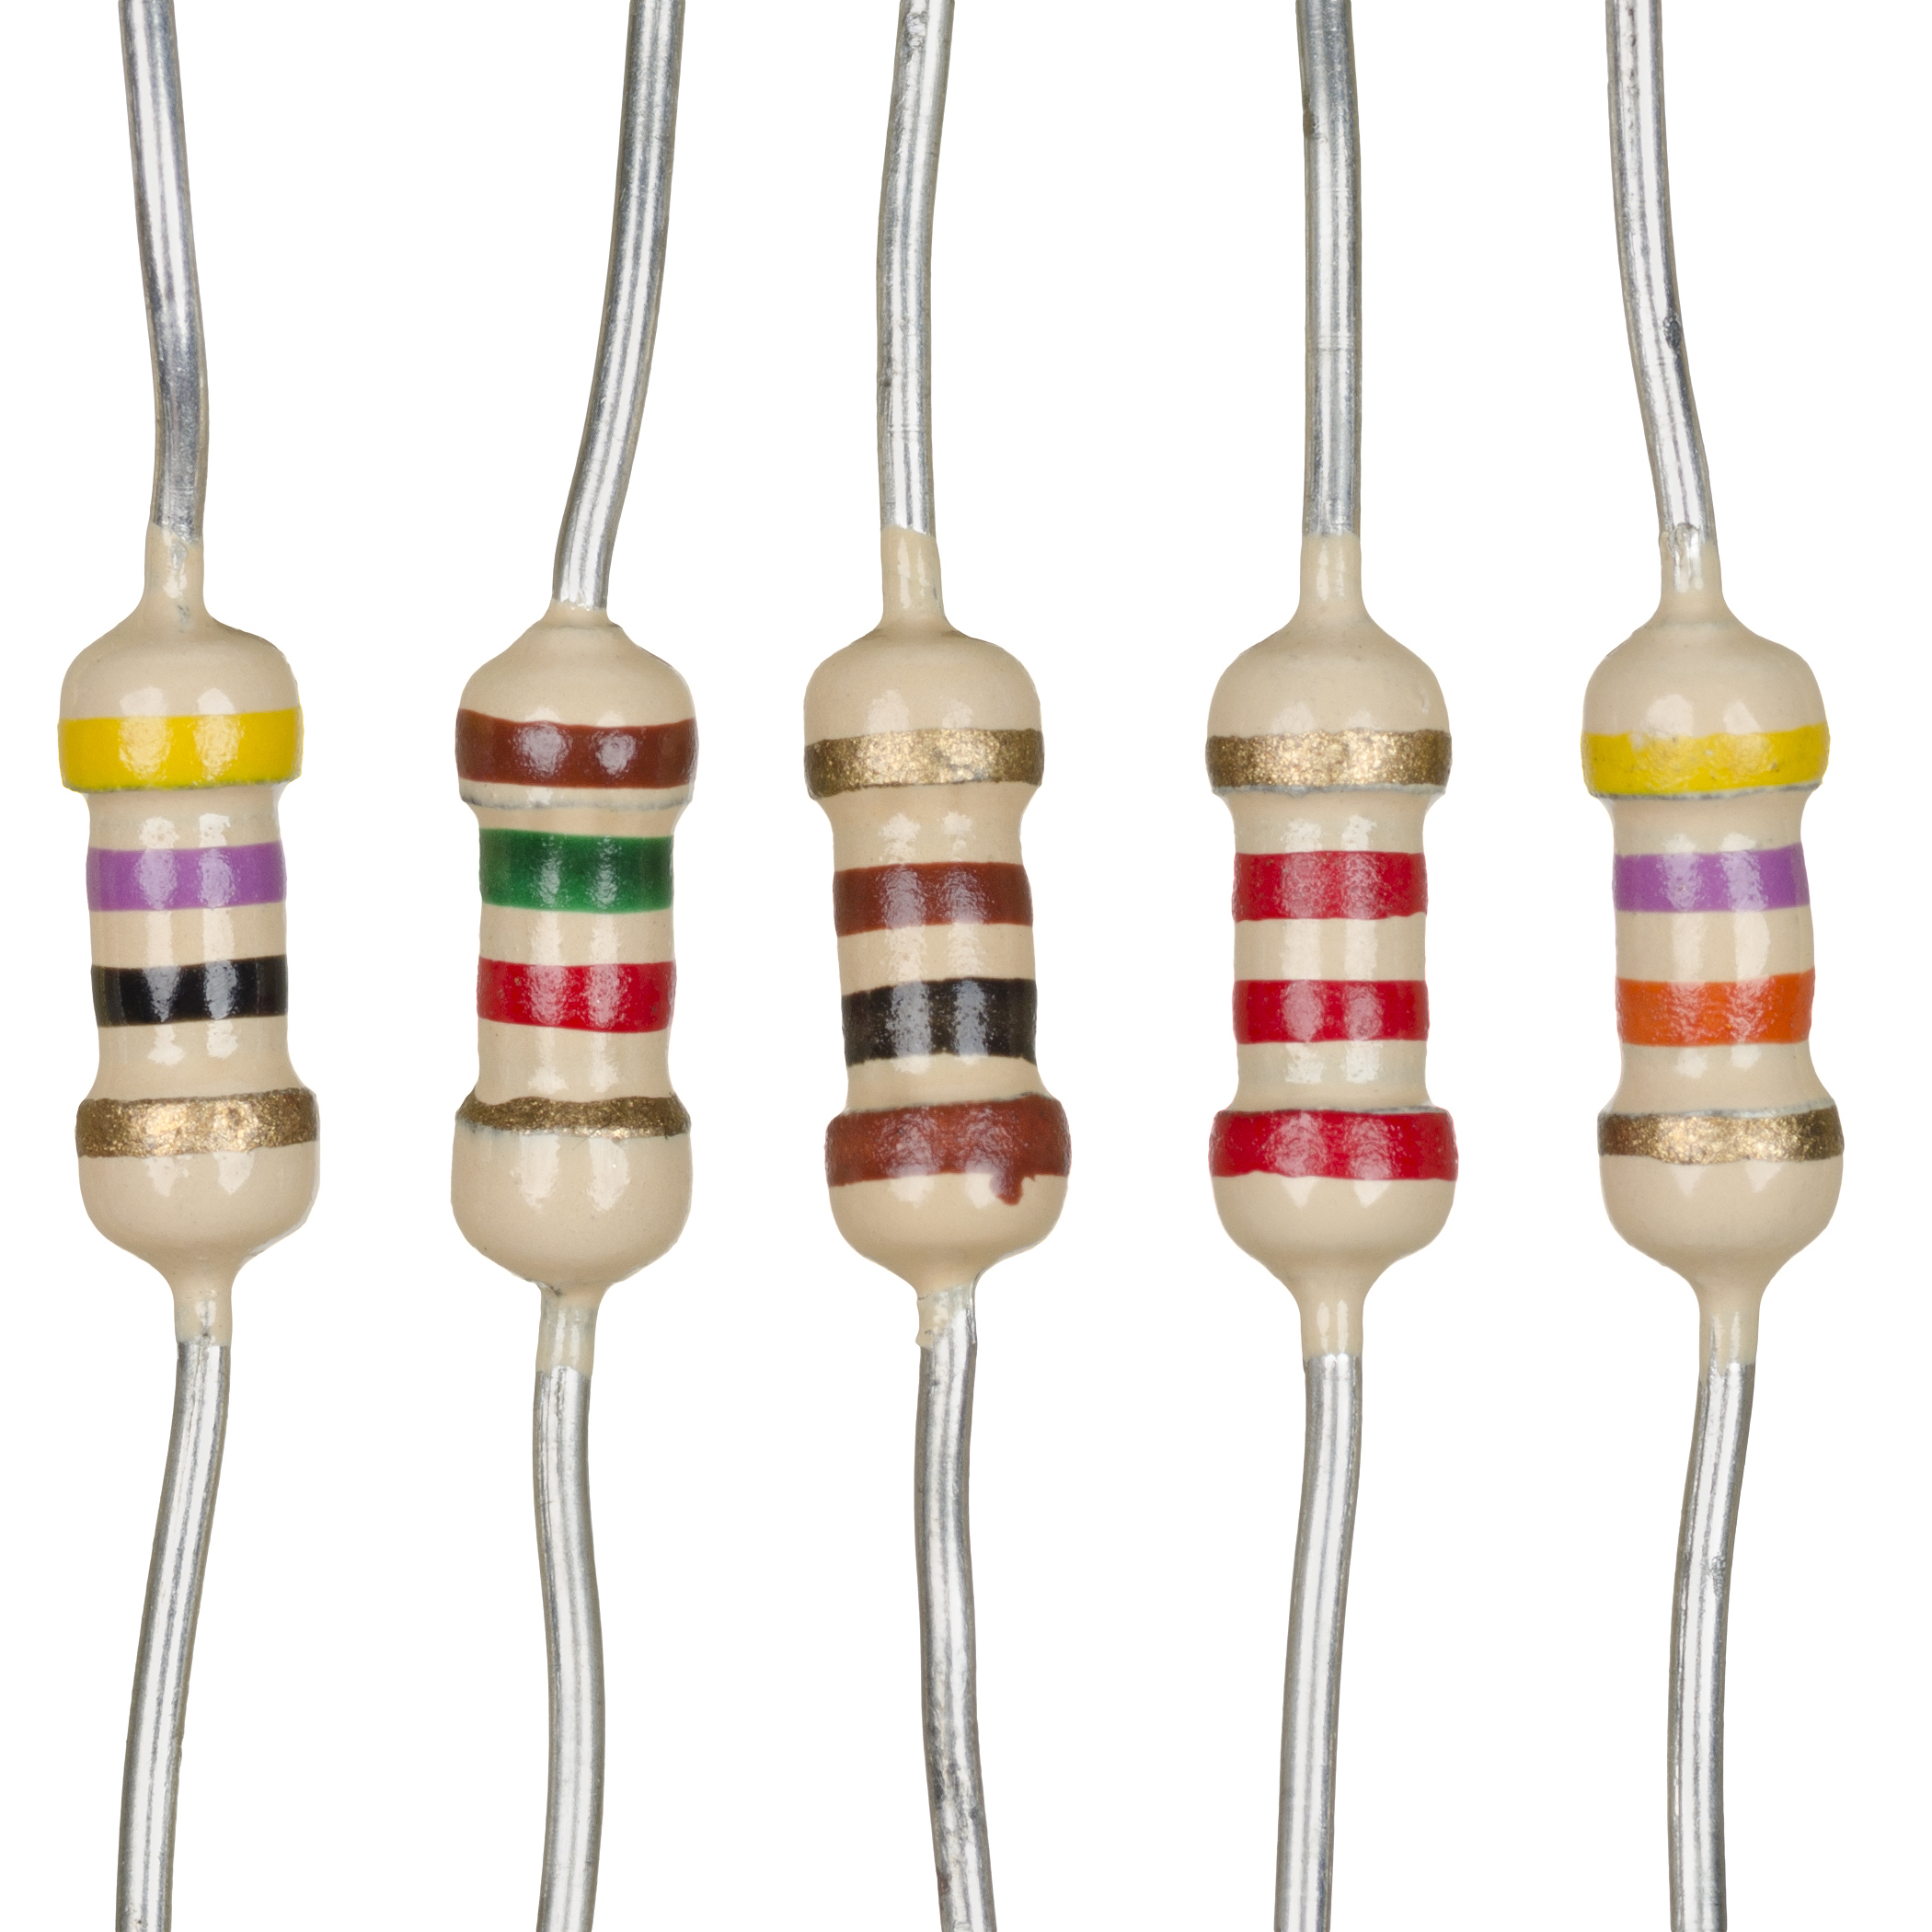Resistor: (1576, 625, 1851, 1300), (55, 614, 327, 1290), (800, 628, 1076, 1283), (1205, 612, 1461, 1302), (446, 630, 702, 1299)
